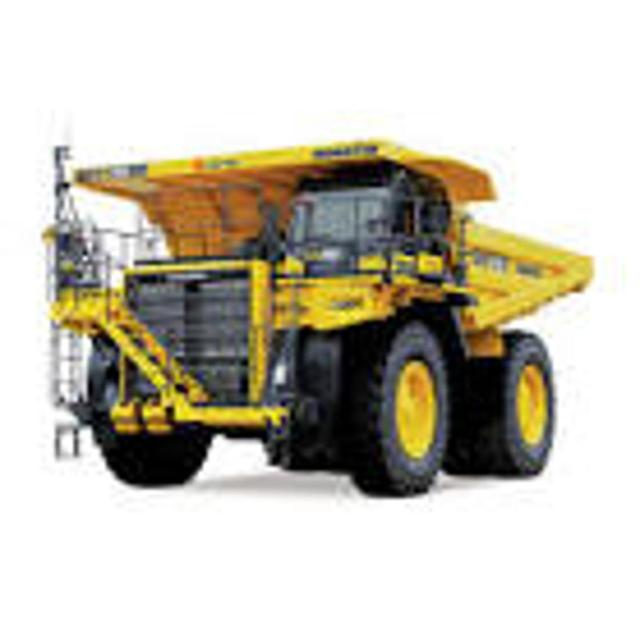dump_truck: (41, 120, 595, 507)
